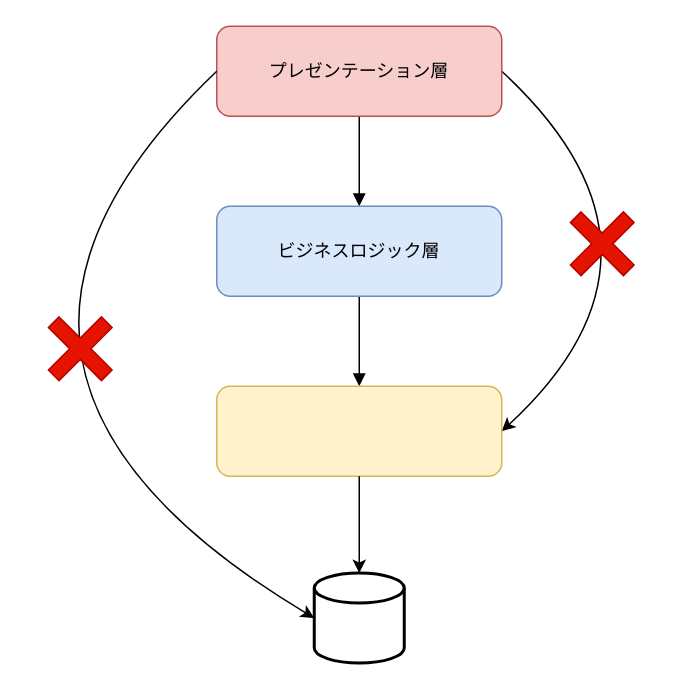
Image size: 683x690. Some labels were removed from this diagram. Here are the shapes that lost their labels. From the top down, the centre of each, then its label:
At (358,430): "インフラストラクチャ層".
At (358,617): "DB".
